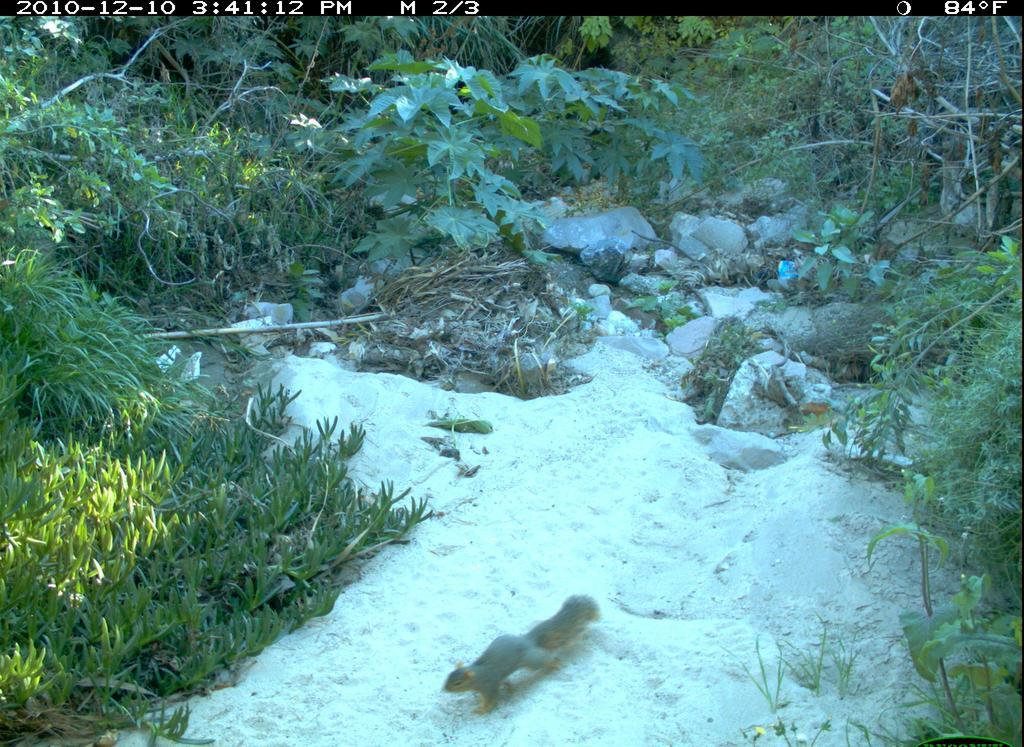squirrel: (434, 591, 612, 722)
